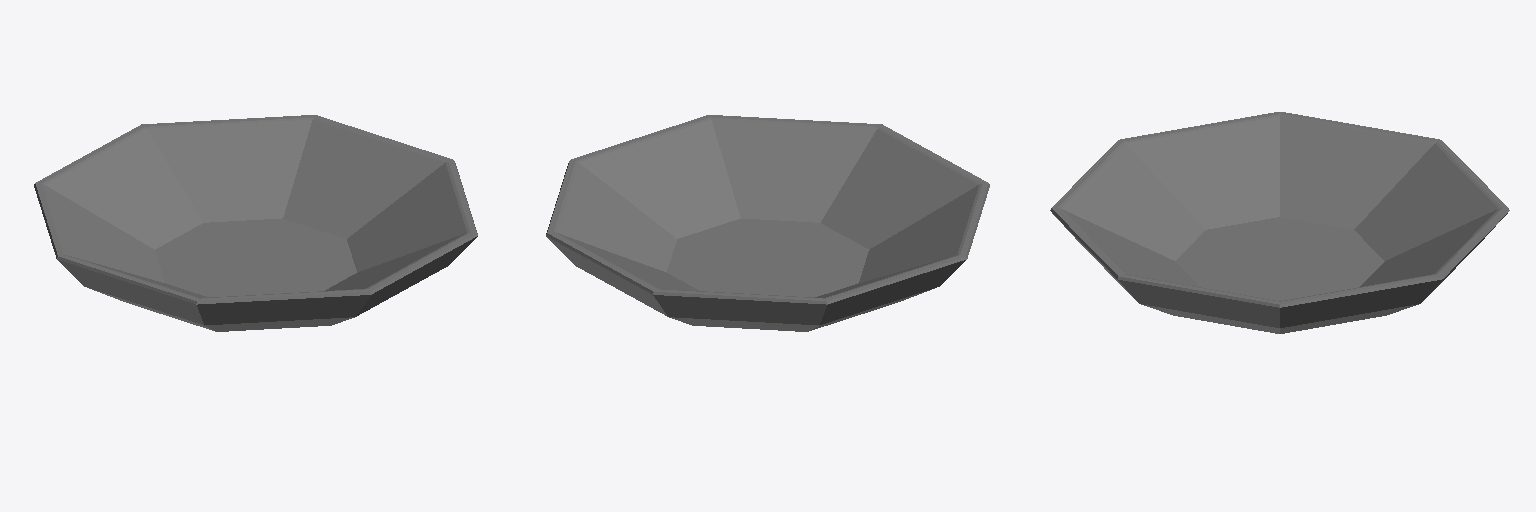
The model's file is PlataA.obj.
The picture shows the model from 3 angles: view 1: azimuth 30°, elevation 25°; view 2: azimuth 150°, elevation 25°; view 3: azimuth 270°, elevation 25°; orthographic projection.
Parts seen in each view (by area): view 1: PlatoA; view 2: PlatoA; view 3: PlatoA.
Boxes of the visible parts, x1=… form: PlatoA: x1=34, y1=115, x2=477, y2=331; PlatoA: x1=546, y1=115, x2=989, y2=331; PlatoA: x1=1050, y1=112, x2=1509, y2=333.
Size of the model in its own units: 157 by 35.99 by 157.